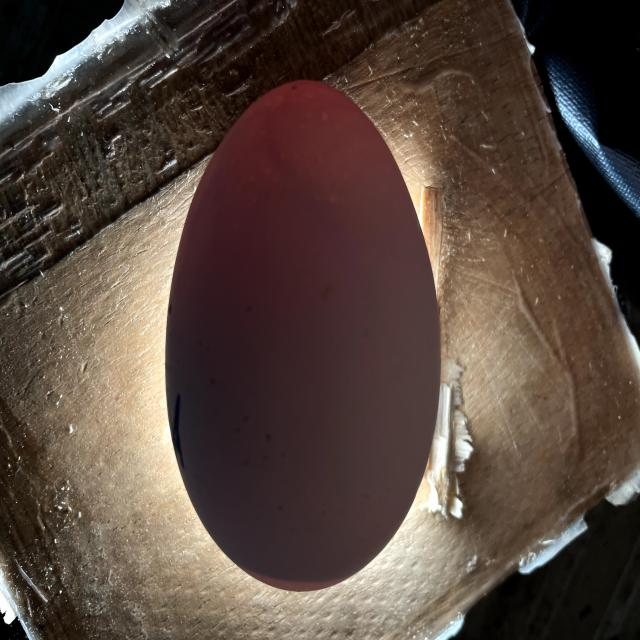fertile: (166, 80, 440, 590)
